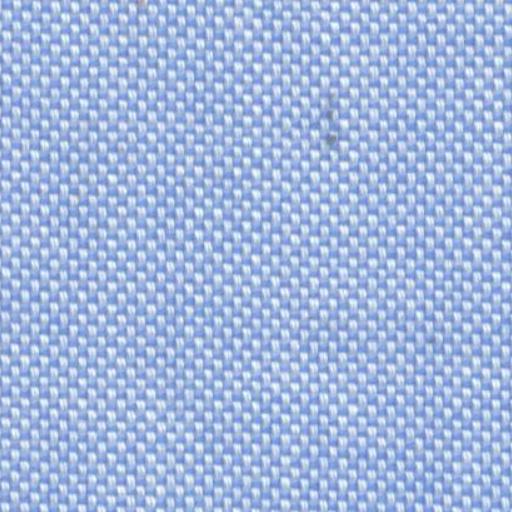WuZi: (292, 79, 364, 154)
